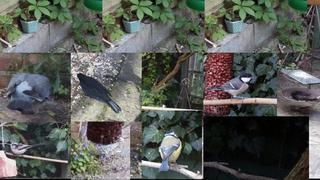blackbird: (77, 73, 122, 114)
blue tit: (158, 130, 182, 171)
great tit: (206, 73, 257, 103)
long tailed tit: (9, 142, 48, 158)
wood pigeon: (6, 73, 51, 116)
